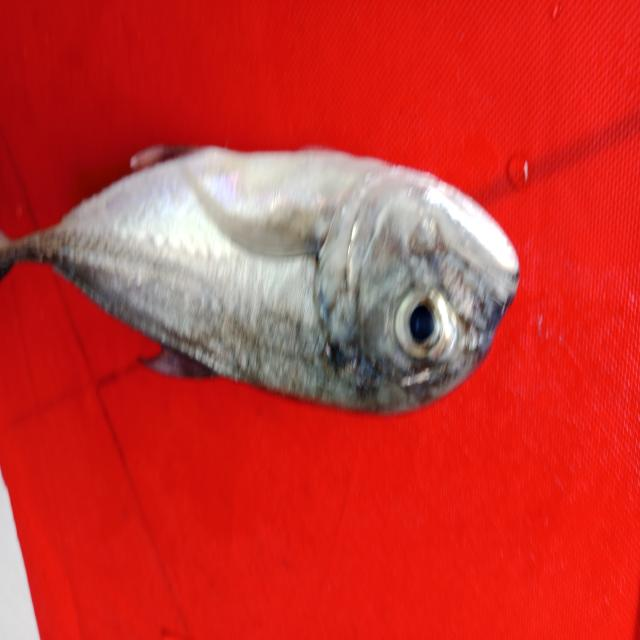ikan: (6, 128, 554, 433)
